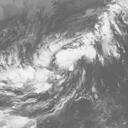cyclone: (30, 33, 95, 93)
